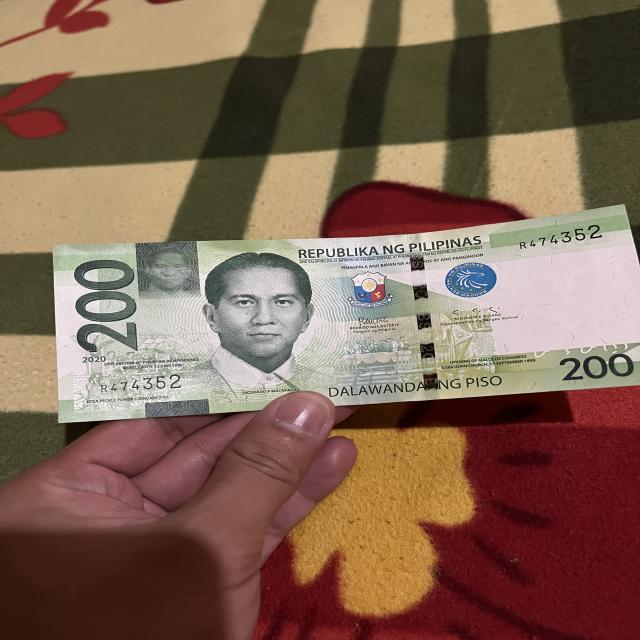concealed_value: (134, 240, 202, 298)
security_thread: (406, 232, 440, 400)
see_through_mark: (528, 339, 630, 358)
serial_number: (513, 222, 613, 253), (82, 372, 194, 396)
value: (72, 255, 141, 354)
value_watermark: (610, 291, 634, 321)
